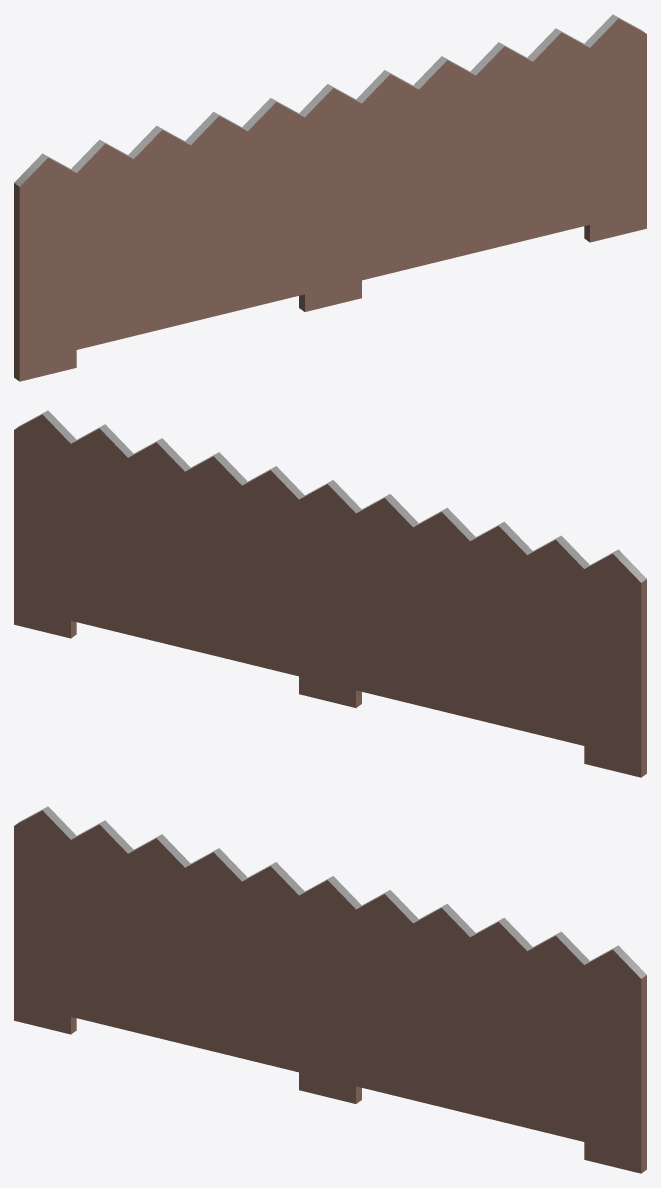
The model's file is fence.fbx.
3 renders of one model, top to bottom at view 1: azimuth 30°, elevation 25°; view 2: azimuth 150°, elevation 25°; view 3: azimuth 330°, elevation 25°, orthographic.
Visible parts, largest first — view 1: barriere; view 2: barriere; view 3: barriere.
Boxes of the visible parts, left/top/right/bottom form: barriere: left=14, top=14, right=646, bottom=381; barriere: left=14, top=410, right=646, bottom=777; barriere: left=14, top=806, right=646, bottom=1173.
Bounding box in the file's own units: 25.88 × 8.56 × 0.4075.
